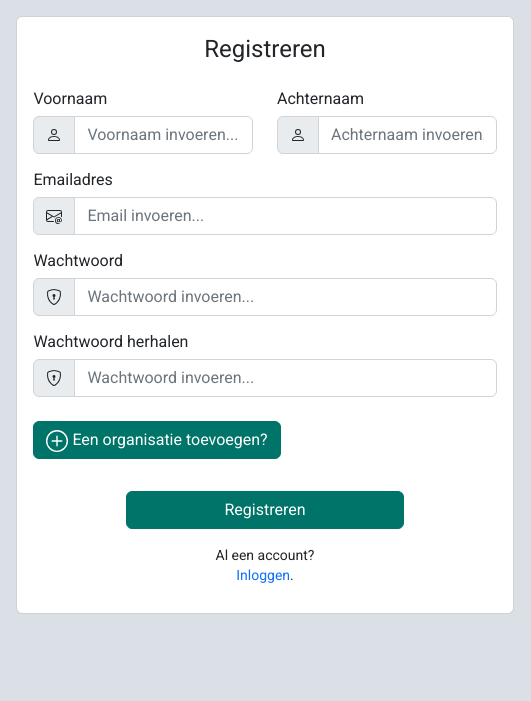
Testing the error handling responses on incorrect input. › Enter all input fiels but first name. Should return a error
The width and height of the screenshot is (531, 701).
Type "Doe" into the field with id "lastNameInput" at (408, 135), box [318, 116, 497, 154]
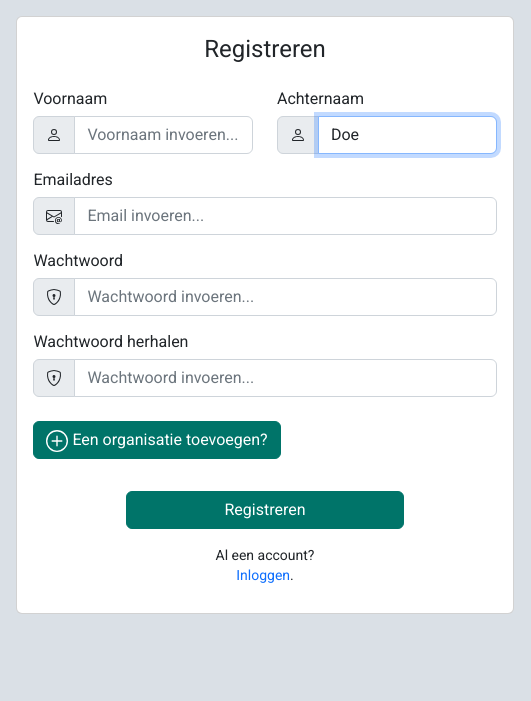
Type "JohnDoe@Chicken.com" into the field with id "emailInput" at (285, 216), box [74, 197, 496, 235]
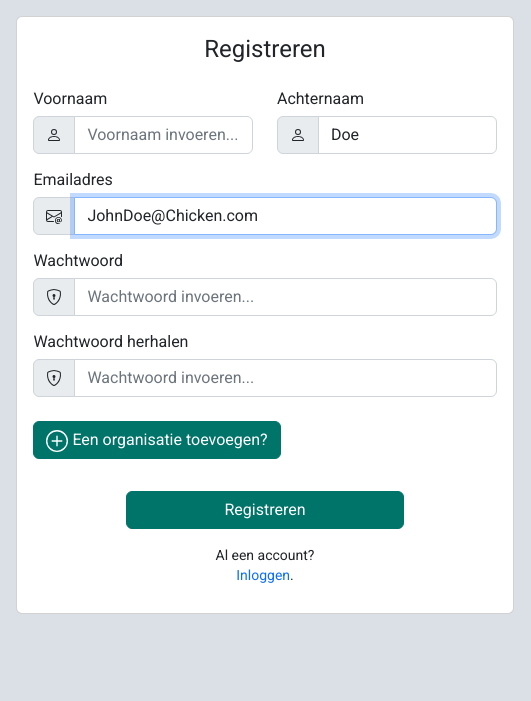
Type "123456" into the password field labelled "Wachtwoord" at (285, 297), box [74, 278, 496, 316]
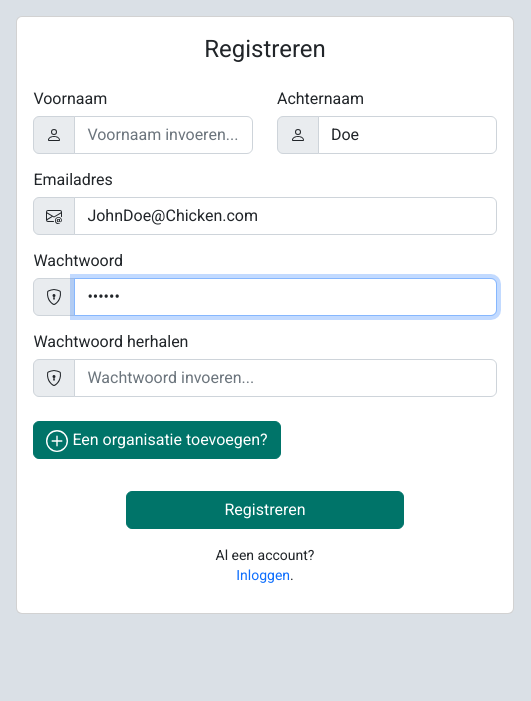
Type "123456" into the password field with id "repeatPasswordInput" at (285, 378), box [74, 359, 496, 397]
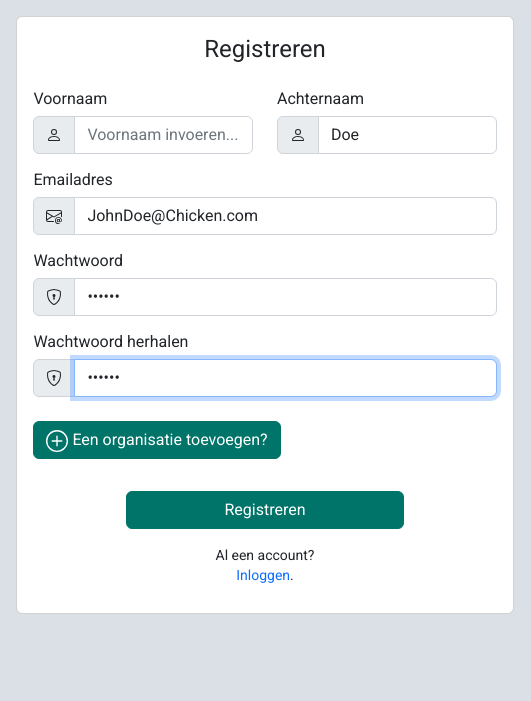
Click the button "Registreren" at (265, 510), box [126, 491, 404, 529]
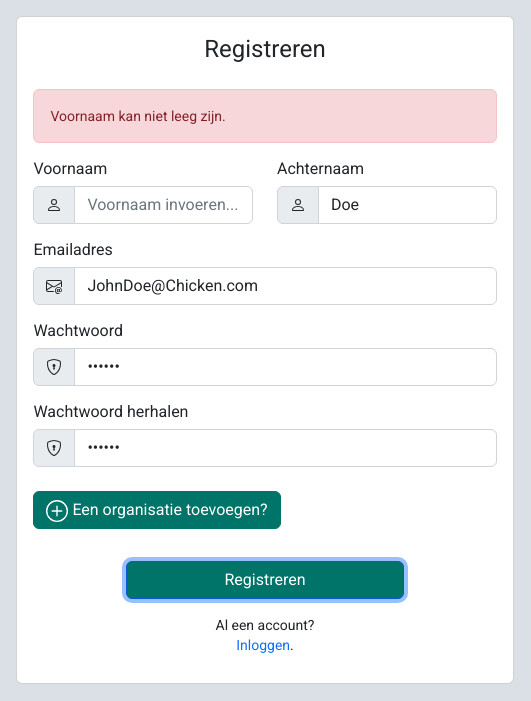
Expected: the text "Voornaam kan niet leeg zijn." is shown once, [50, 108, 225, 124]
Expected: the text "Voornaam kan niet leeg zijn." is shown, [33, 89, 497, 143]
